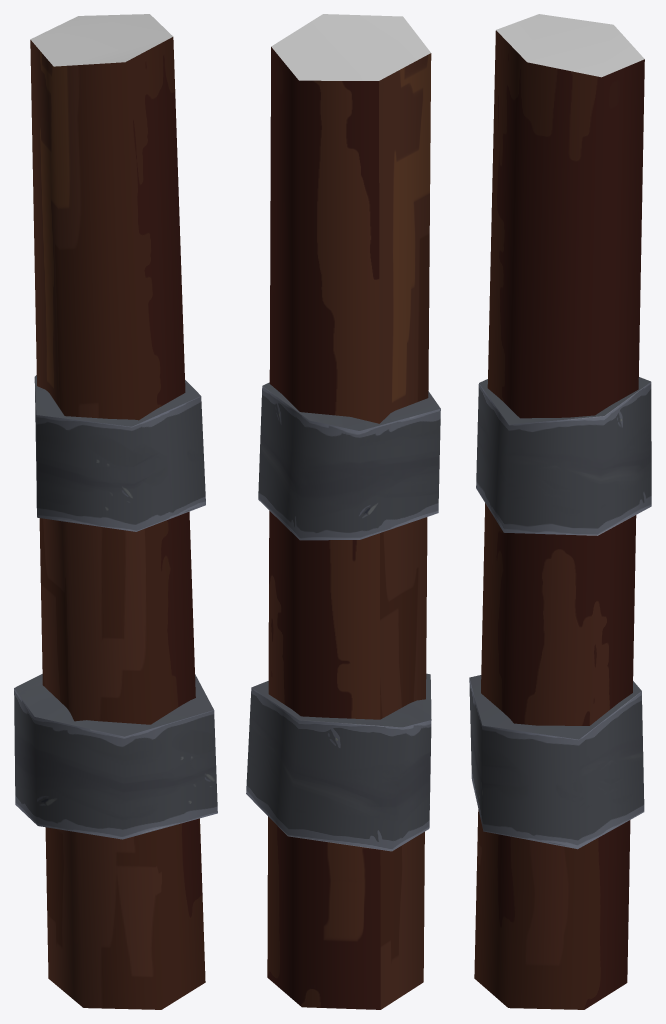
File: SM_PROP_wall_wood_post_01.fbx
3 renders of one model, left to right at view 1: azimuth 30°, elevation 25°; view 2: azimuth 150°, elevation 25°; view 3: azimuth 270°, elevation 25°, orthographic.
Parts seen in each view (by area): view 1: SM_PROP_wall_wood_post_01; view 2: SM_PROP_wall_wood_post_01; view 3: SM_PROP_wall_wood_post_01.
Part boxes in pixels (box(x1,y1,x2,y2)): SM_PROP_wall_wood_post_01: box(14, 14, 217, 1009); SM_PROP_wall_wood_post_01: box(246, 14, 440, 1009); SM_PROP_wall_wood_post_01: box(469, 14, 651, 1009).
Bounding box in the file's own units: 115 × 582 × 103.
